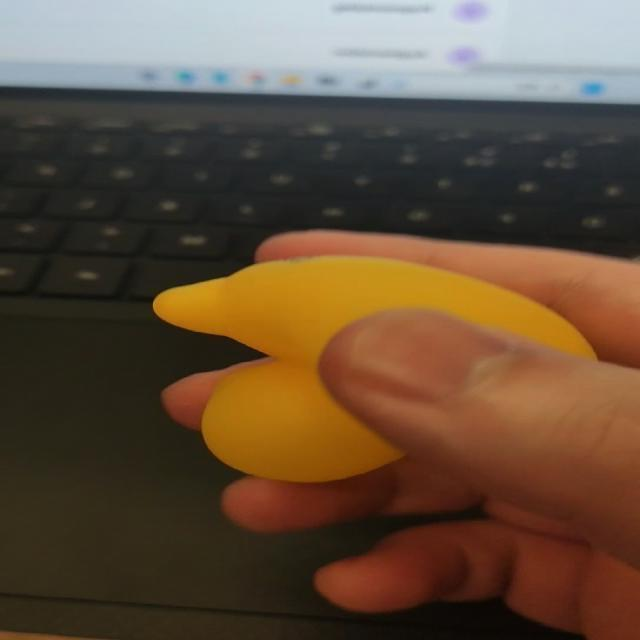rubber-duck: (153, 255, 593, 480)
